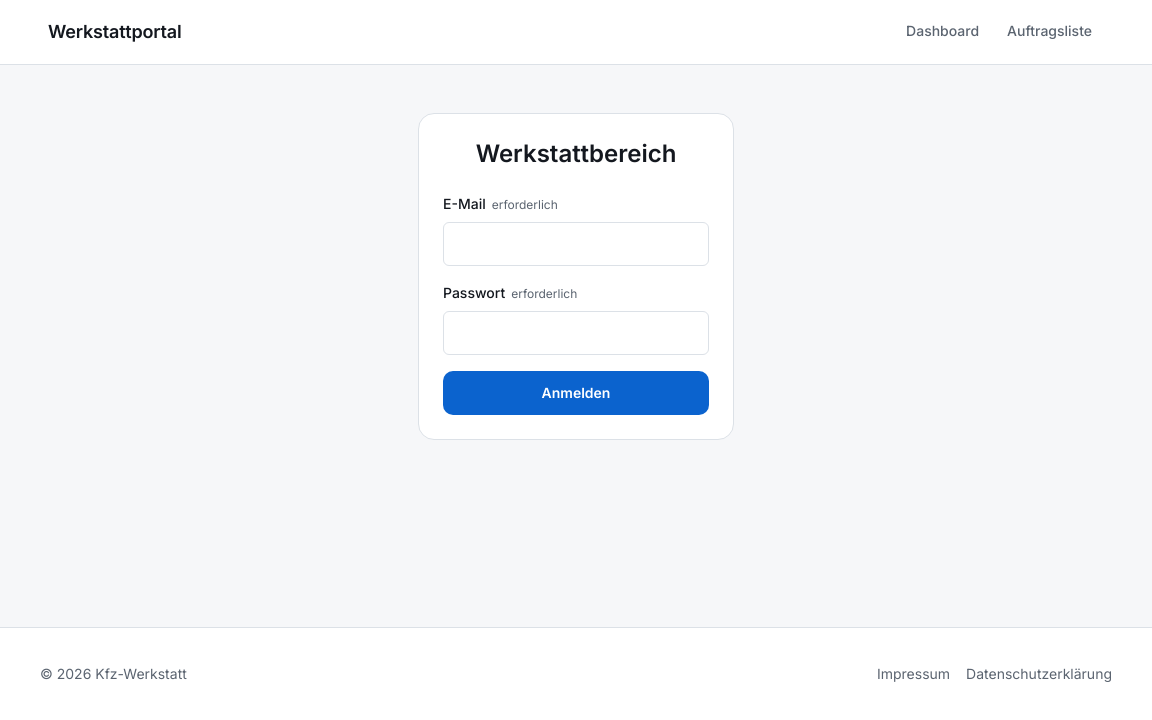
Test: WorkshopLogin › stays neutral until submit and then reports missing fields
The image size is (1152, 720).
Expected: the text "Bitte eine gültige E-Mail-Adresse angeben." is not shown
Click the button "Anmelden" at (576, 393), box [443,371,709,415]
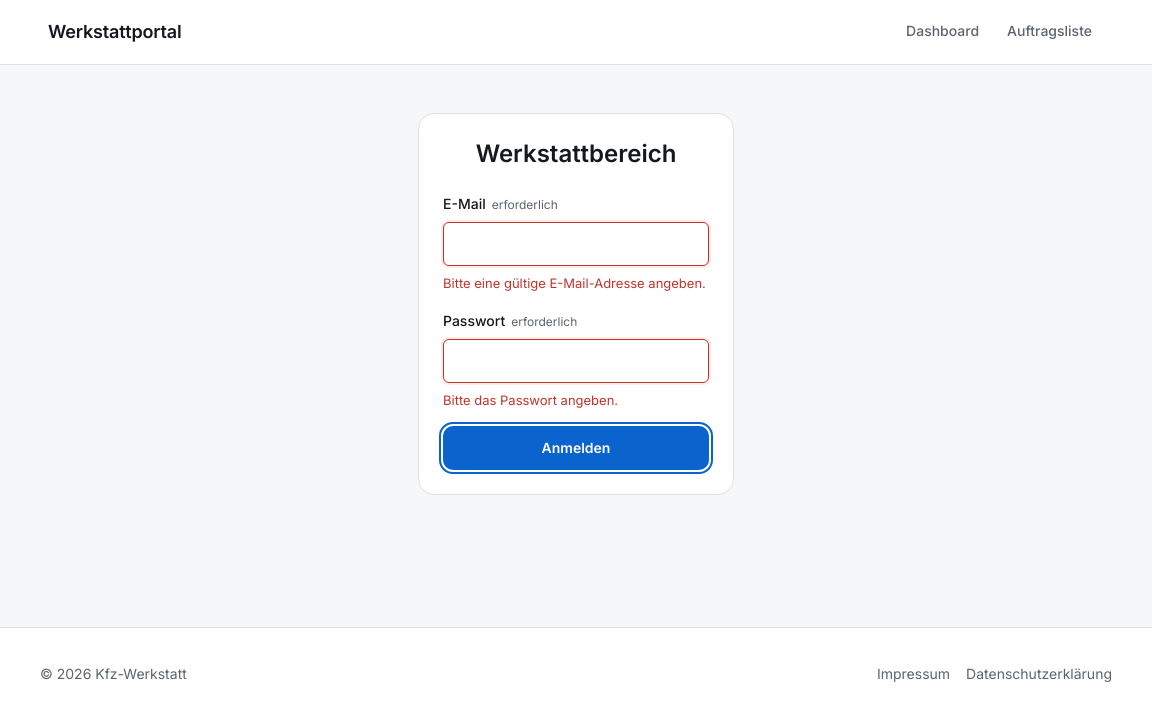
Expected: the text "Bitte eine gültige E-Mail-Adresse angeben." is shown, [443,274,709,294]
Expected: the text "Bitte das Passwort angeben." is shown, [443,392,618,408]
